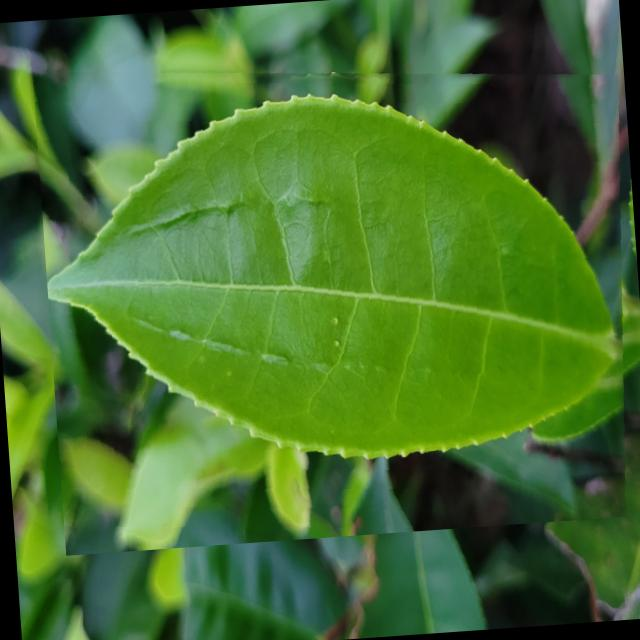Catagory A(1-2 days): (32, 29, 640, 554)
